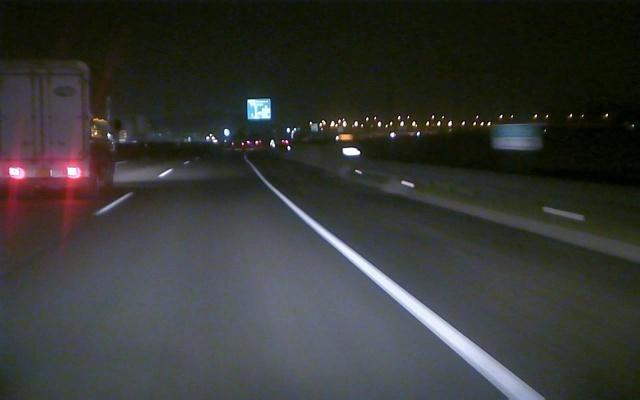lane: (266, 184, 544, 397), (90, 167, 176, 217)
